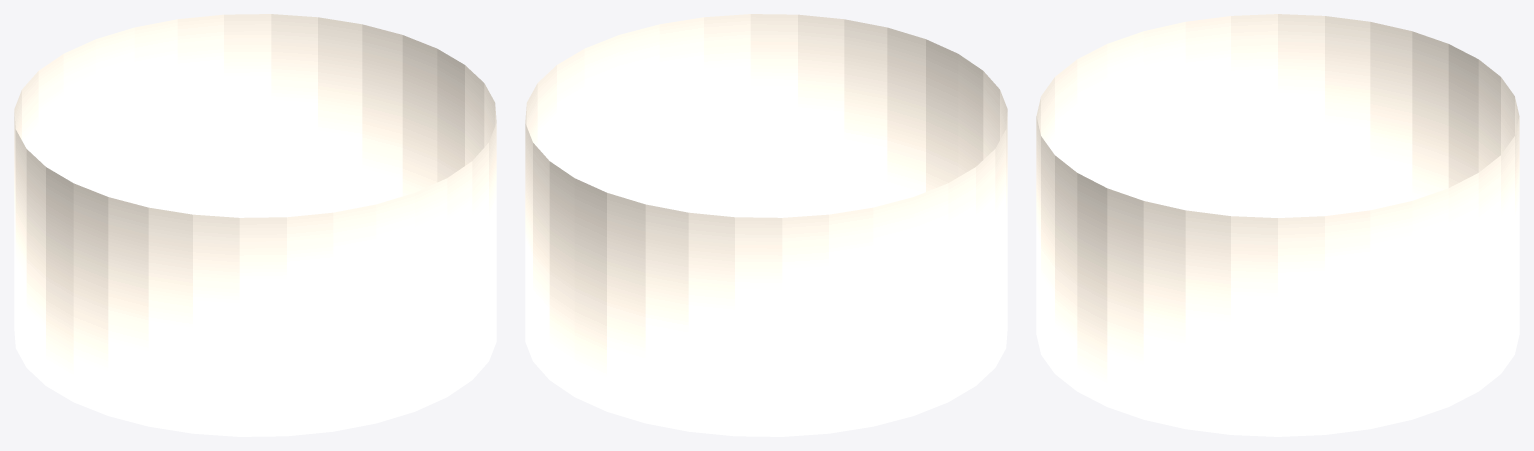
The model's file is lb_beam_white.glb.
3 renders of one model, left to right at view 1: azimuth 30°, elevation 25°; view 2: azimuth 150°, elevation 25°; view 3: azimuth 270°, elevation 25°, orthographic.
Parts seen in each view (by area): view 1: lb_beam_white; view 2: lb_beam_white; view 3: lb_beam_white.
Part boxes in pixels (x1,y1,x2,y2): lb_beam_white: (14, 14, 496, 436); lb_beam_white: (525, 14, 1007, 436); lb_beam_white: (1036, 14, 1519, 436).
Bounding box in the file's own units: 2 × 1 × 2.
1 material, 1 textured.
